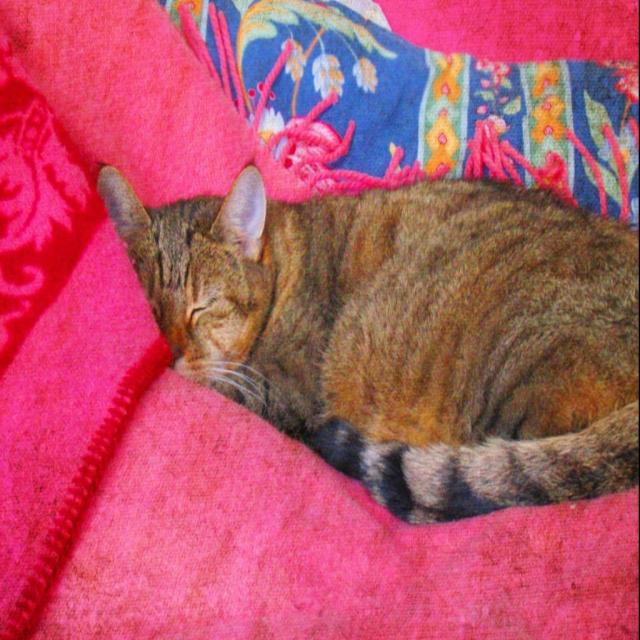Cat: (97, 162, 638, 525)
